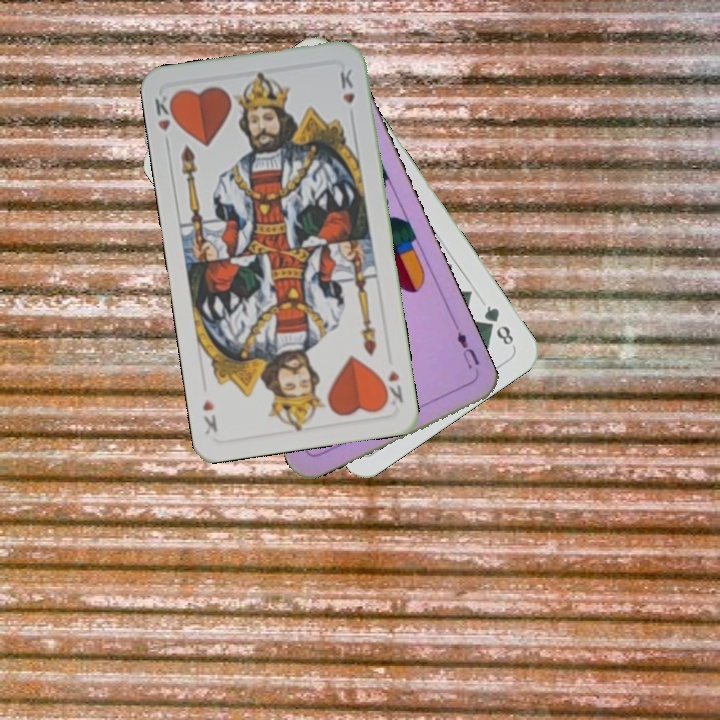EU: (452, 327, 482, 377)
G8: (479, 301, 517, 348)
HK: (150, 91, 180, 150), (378, 366, 406, 409)
